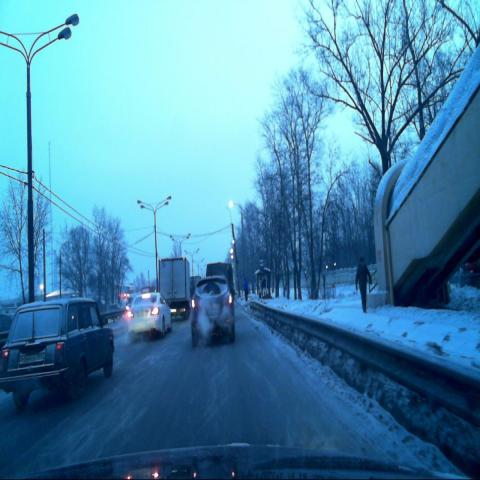5_16: (258, 257, 265, 271)
